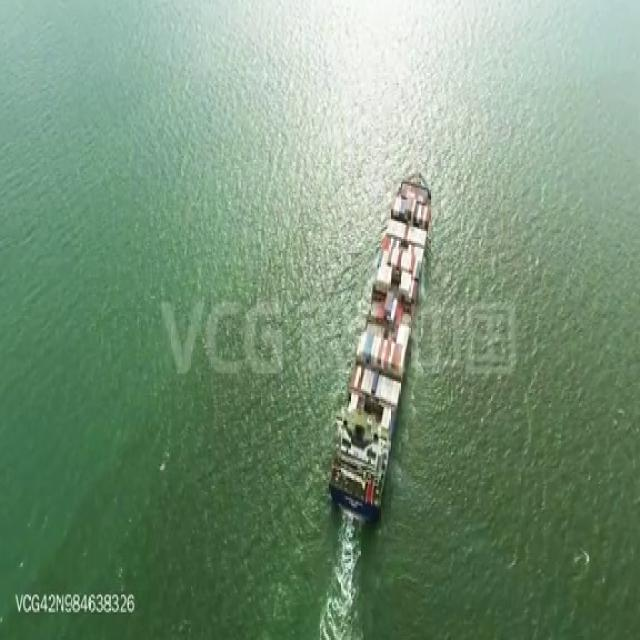cargoship: (327, 170, 431, 524)
